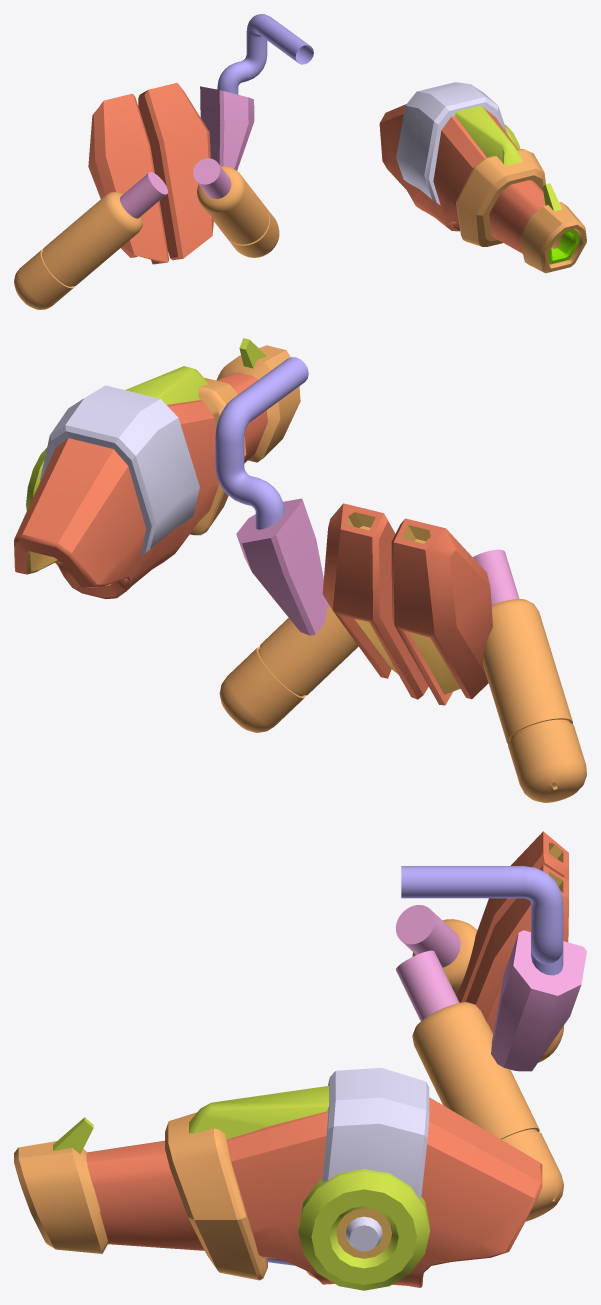
Rendered from CANNON.fbx.
3 views of the same model, one above another, from view 1: azimuth 30°, elevation 25°; view 2: azimuth 150°, elevation 25°; view 3: azimuth 270°, elevation 25° (orthographic). The views are drawn at different scales.
Parts seen in each view (by area): view 1: BACKPACK, CANNON; view 2: BACKPACK, CANNON; view 3: CANNON, BACKPACK.
Part boxes in pixels (x1,y1,x2,y2): BACKPACK: [14, 14, 313, 309]; CANNON: [379, 82, 586, 273]; BACKPACK: [215, 357, 586, 802]; CANNON: [14, 338, 300, 598]; CANNON: [14, 1067, 542, 1290]; BACKPACK: [395, 831, 586, 1221].
Size of the model in its own units: 312 by 161 by 231.
